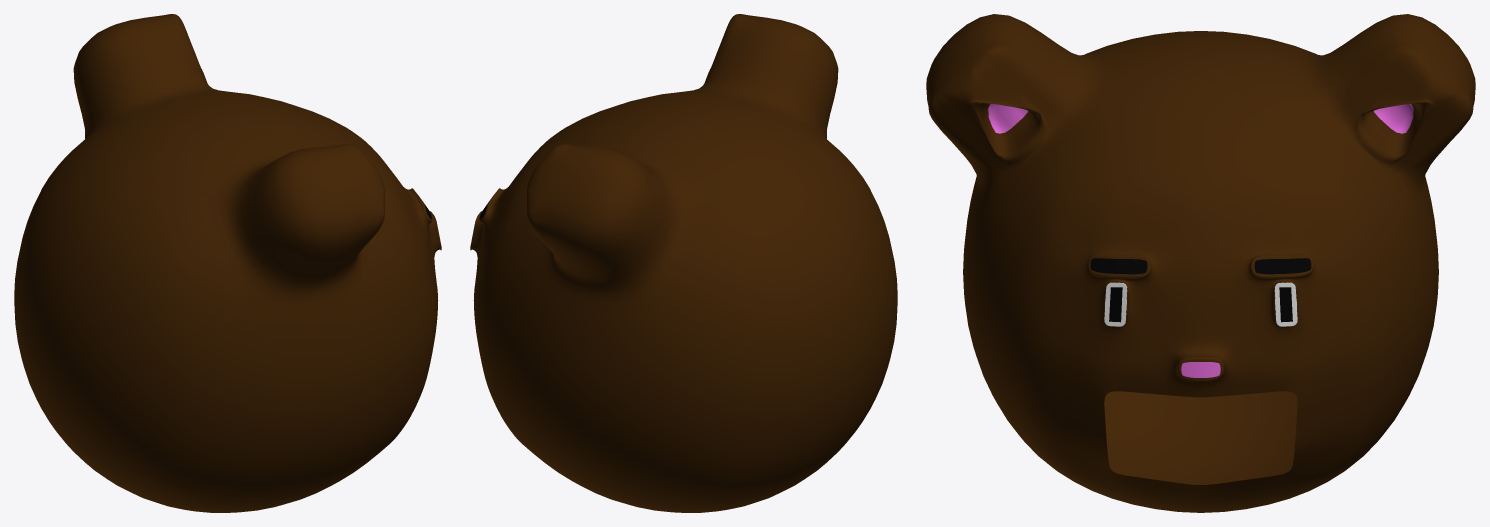
Rendered from kuma.fbx.
3 views of the same model, side by side, from view 1: azimuth 30°, elevation 25°; view 2: azimuth 150°, elevation 25°; view 3: azimuth 270°, elevation 25° (orthographic). The views are drawn at different scales.
Visible parts, largest first — view 1: Cube; view 2: Cube; view 3: Cube.
Boxes of the visible parts, <box> form: Cube: <box>14,14,441,512</box>; Cube: <box>470,14,897,512</box>; Cube: <box>926,14,1475,512</box>.
Bounding box in the file's own units: 170 × 173 × 185.
